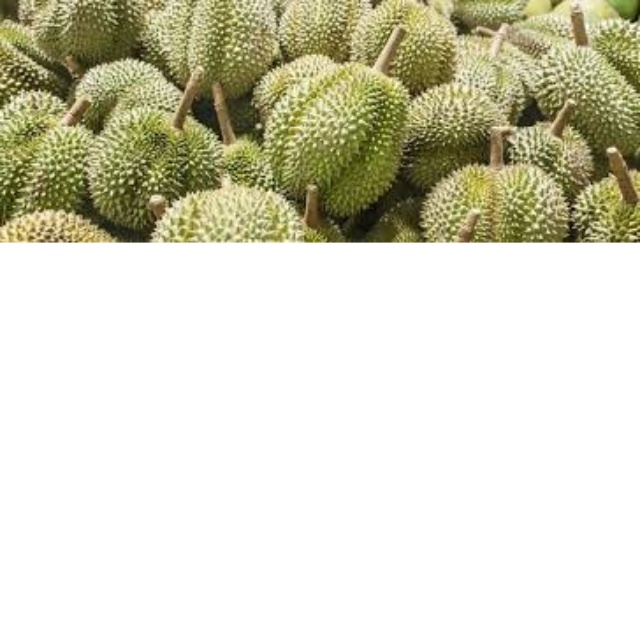sau_rieng: (252, 59, 415, 210), (86, 104, 224, 229), (531, 42, 640, 153), (350, 1, 458, 87)
